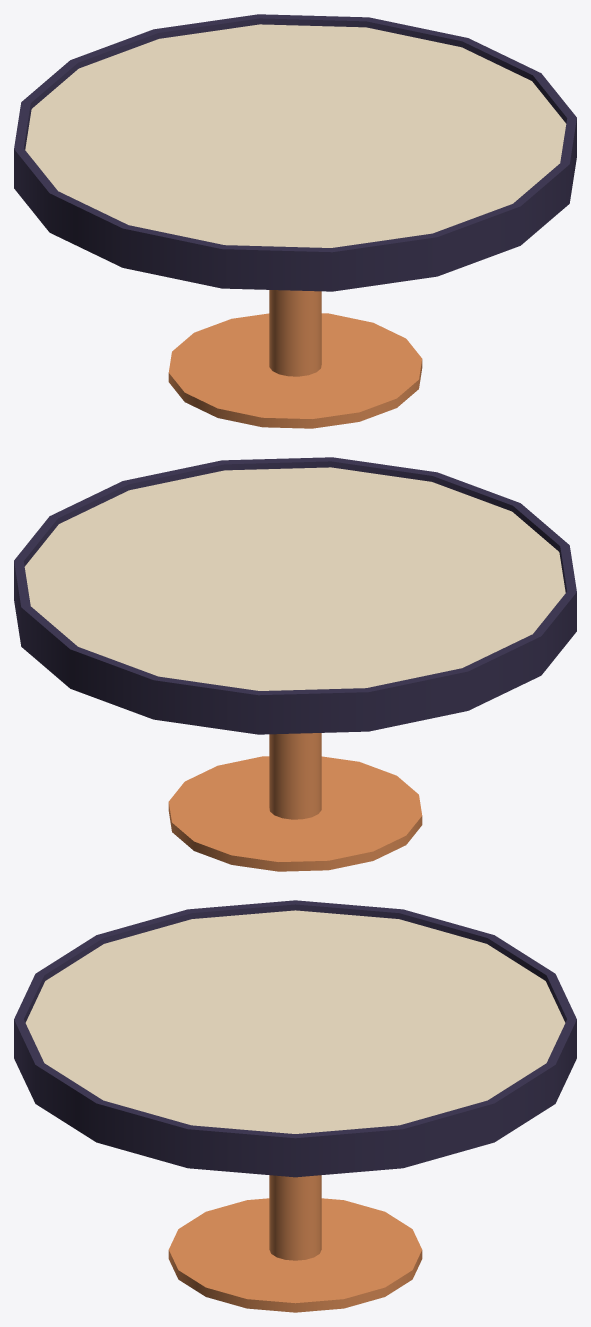
Rendered from classic_table.fbx.
3 renders of one model, top to bottom at view 1: azimuth 30°, elevation 25°; view 2: azimuth 150°, elevation 25°; view 3: azimuth 270°, elevation 25°, orthographic.
Visible parts, largest first — view 1: ClassicTable; view 2: ClassicTable; view 3: ClassicTable.
Part boxes in pixels (x1,y1,x2,y2): ClassicTable: (14,14,576,428); ClassicTable: (14,457,576,871); ClassicTable: (14,900,576,1312).
Size of the model in its own units: 511 by 240 by 511.
